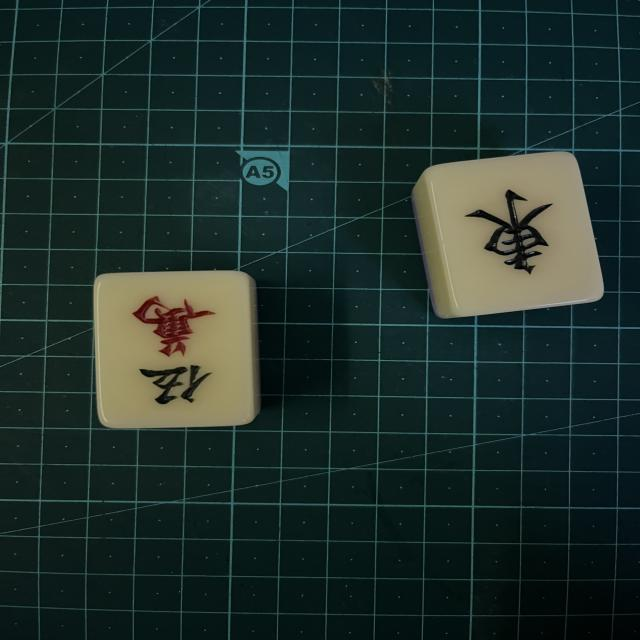5C: (99, 276, 249, 430)
EW: (428, 164, 578, 298)
